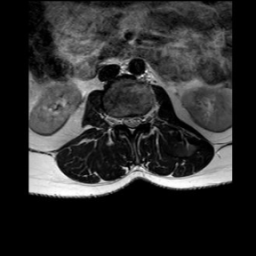CCS_normal: (128, 108, 135, 139)
LFS_normal: (142, 103, 149, 131)
LLS_normal: (135, 107, 142, 131)
RFS_normal: (114, 106, 121, 130)
RLS_normal: (121, 107, 128, 131)
